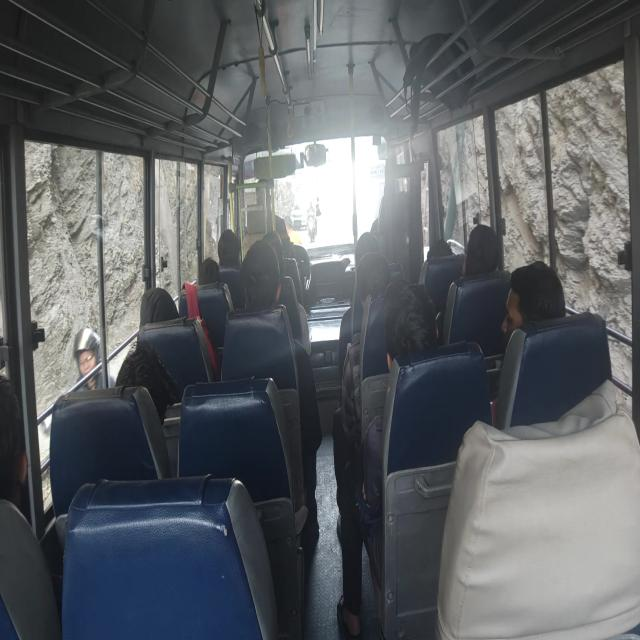person: (0, 385, 86, 535), (512, 266, 572, 331), (390, 291, 439, 354), (118, 370, 170, 427), (464, 225, 512, 284), (247, 250, 283, 322), (139, 277, 172, 336), (360, 262, 400, 302), (352, 225, 388, 269), (196, 251, 228, 296), (213, 232, 245, 269), (260, 225, 286, 268), (424, 243, 457, 270)
